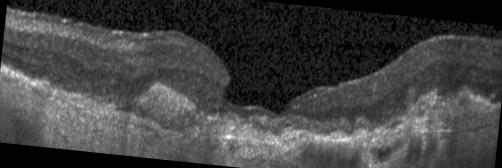lamellar_macular_rupture: (224, 75, 298, 113)
subretinal_hyperreflective_material: (113, 81, 313, 143), (387, 85, 501, 136), (353, 125, 387, 138), (326, 129, 349, 139)
